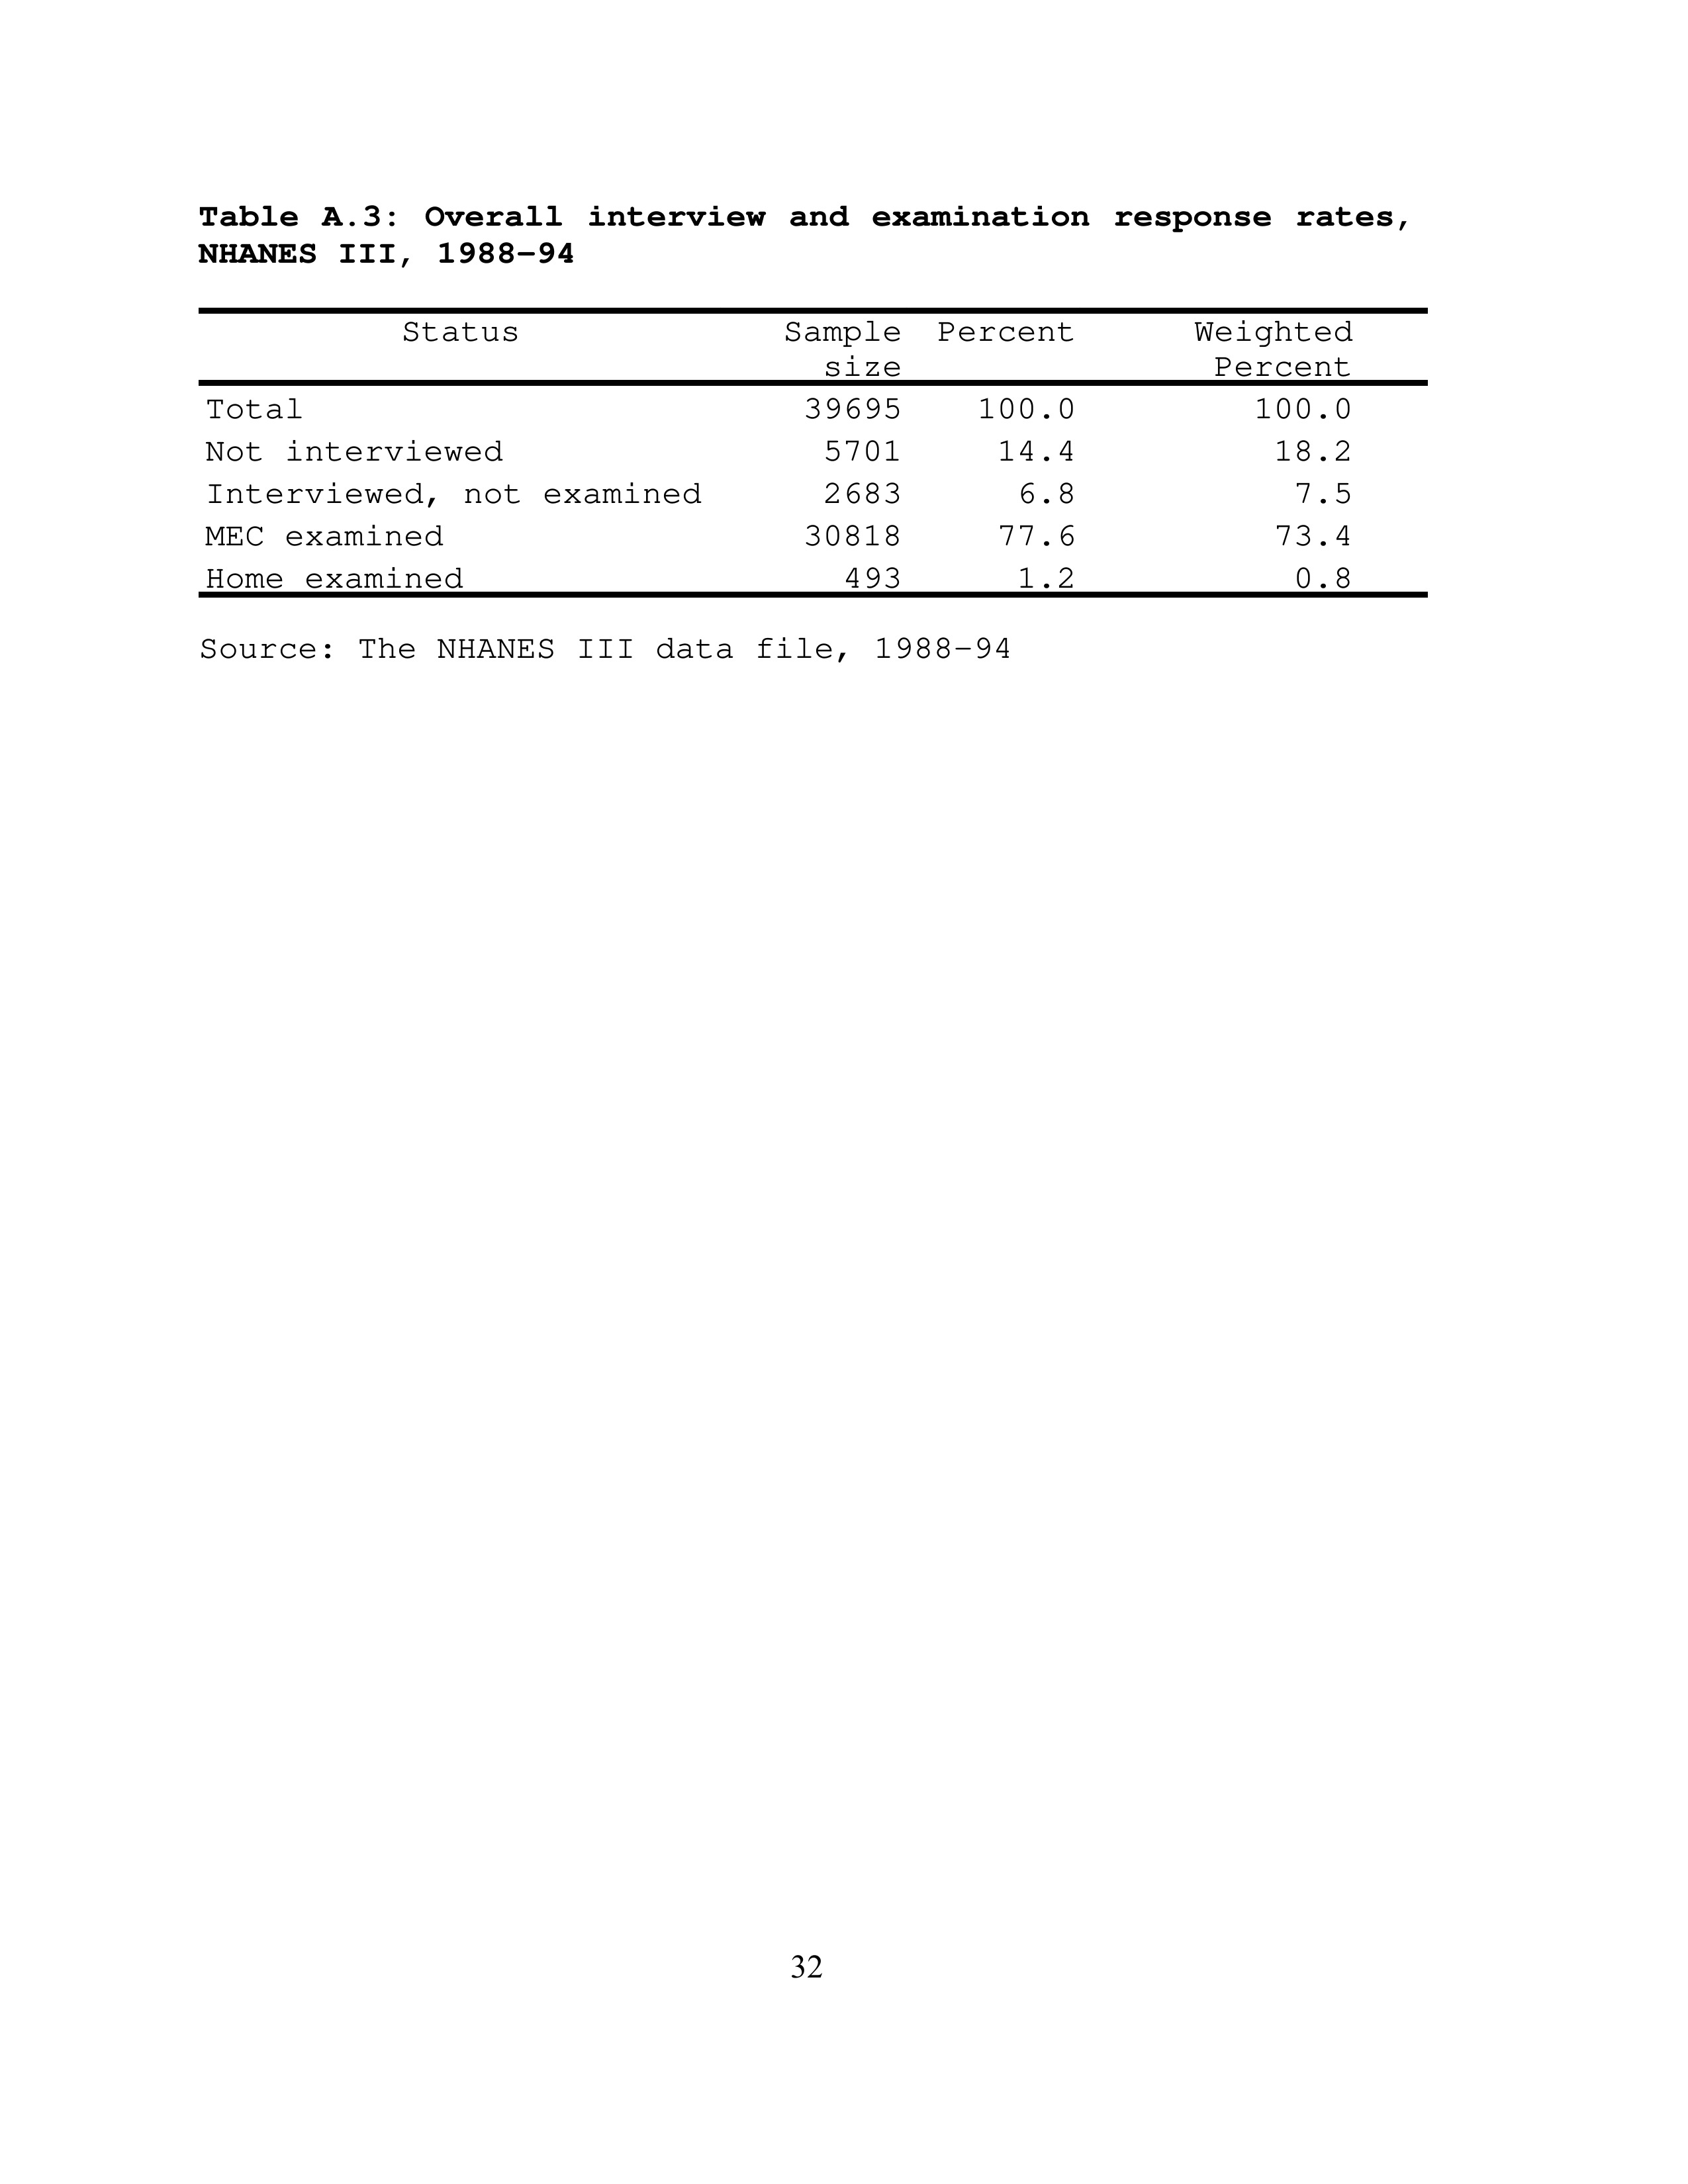table: (204, 310, 1353, 597)
